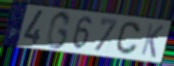4: (22, 9, 44, 47)
6: (72, 15, 93, 51)
7: (94, 16, 120, 54)
C: (114, 20, 142, 56)
G: (45, 11, 73, 51)
K: (139, 22, 165, 60)
